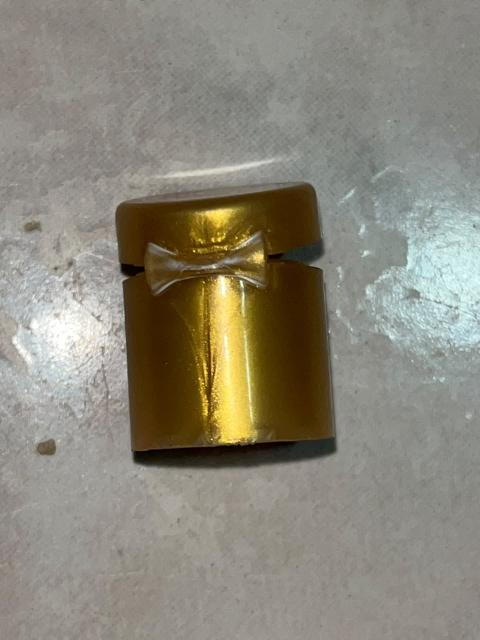PET: (89, 169, 380, 481)
